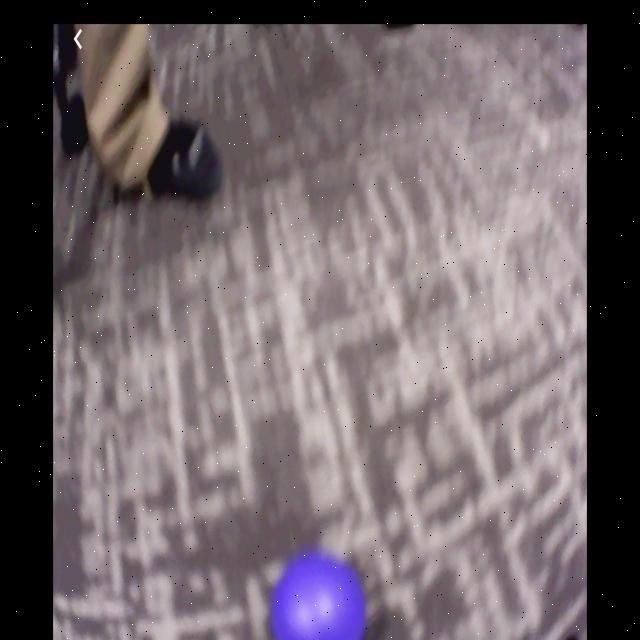ball: (275, 556, 367, 640)
